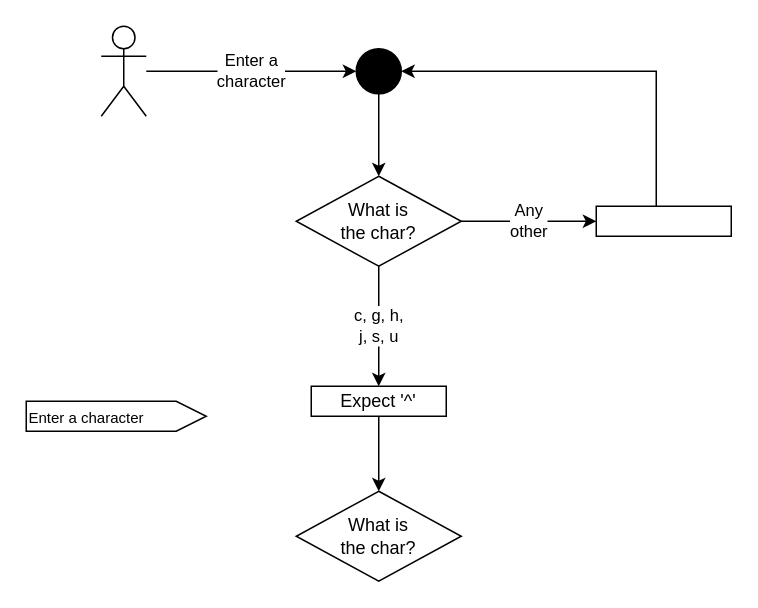
This 758x608 diagram has some shape labels left out. Each missing label, with the centre of its shape:
"Do nothing" belongs at point (663, 220).
"User" belongs at point (123, 70).
